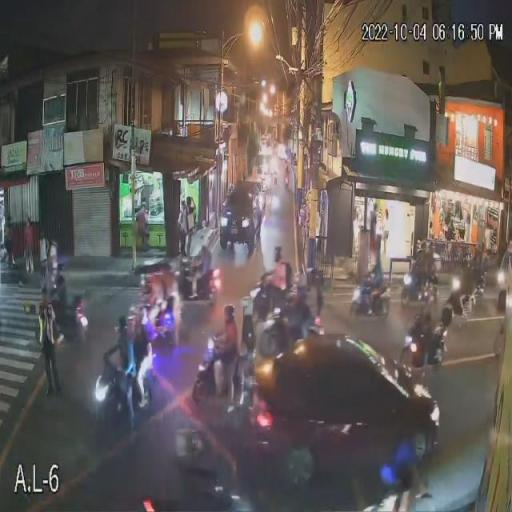helmet: (142, 282, 156, 295), (292, 284, 304, 298), (114, 315, 126, 328), (441, 306, 453, 319), (409, 287, 421, 300), (224, 303, 236, 315), (272, 244, 283, 254)
motorcycle: (92, 340, 154, 442), (126, 292, 180, 358), (192, 340, 243, 409), (258, 306, 322, 359), (399, 328, 447, 378), (244, 278, 290, 328), (51, 290, 90, 346), (174, 262, 223, 305), (347, 276, 391, 322), (398, 265, 438, 312), (440, 282, 478, 320)
rider: (126, 308, 157, 406), (208, 304, 239, 397), (103, 316, 136, 398), (138, 270, 170, 326), (282, 279, 314, 335), (261, 244, 288, 306), (357, 252, 384, 312), (406, 308, 434, 364), (427, 306, 454, 364), (44, 262, 68, 322), (410, 249, 436, 296), (448, 258, 467, 302), (468, 252, 486, 297), (193, 258, 211, 296)
